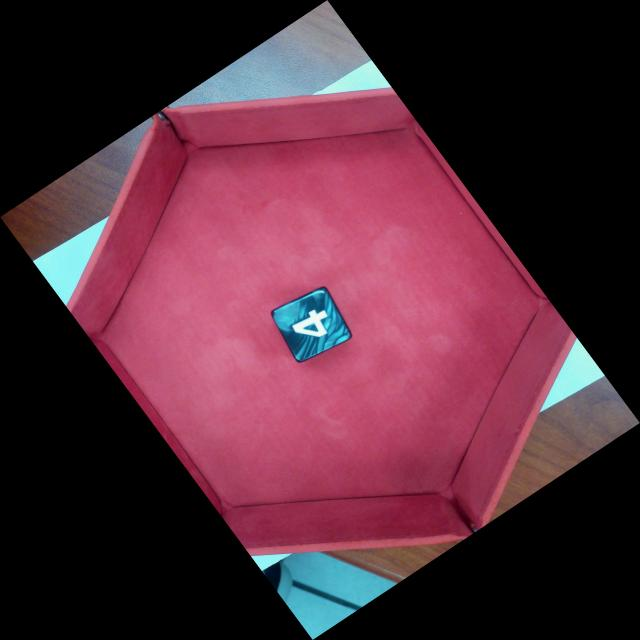dice: (277, 293, 350, 363)
